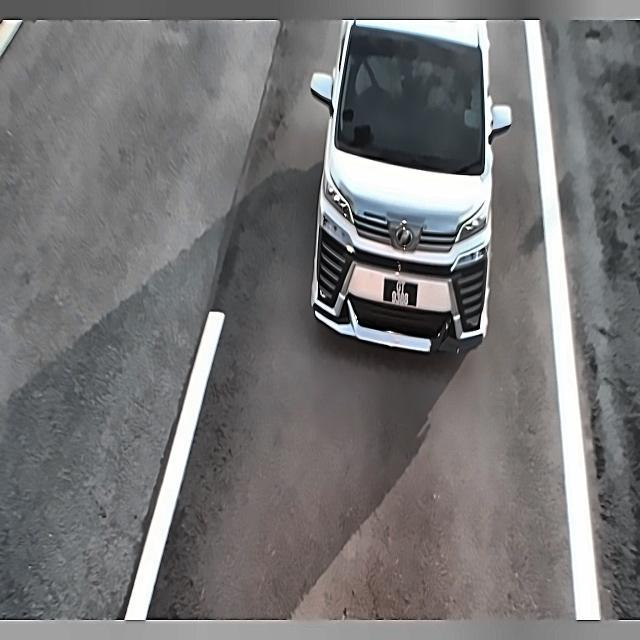car: (380, 271, 425, 313)
